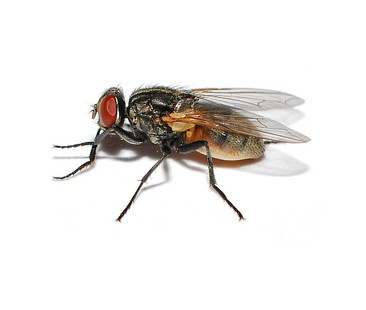phorid fly: (40, 61, 324, 238)
